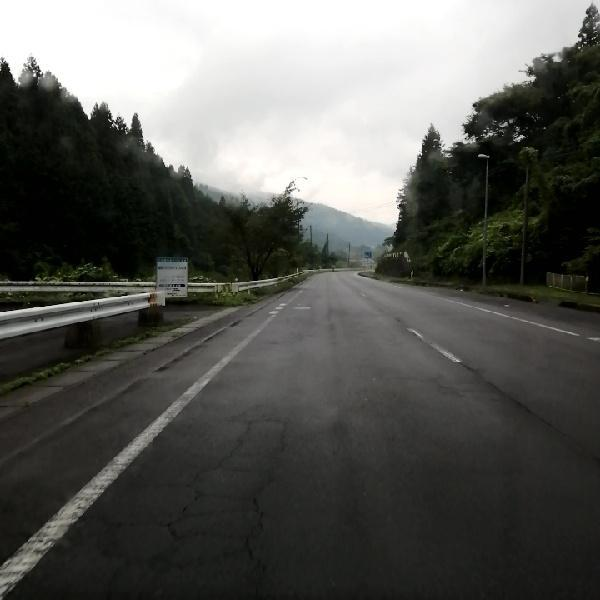D00: (102, 406, 279, 594), (484, 380, 566, 438)
D44: (401, 318, 467, 368)
